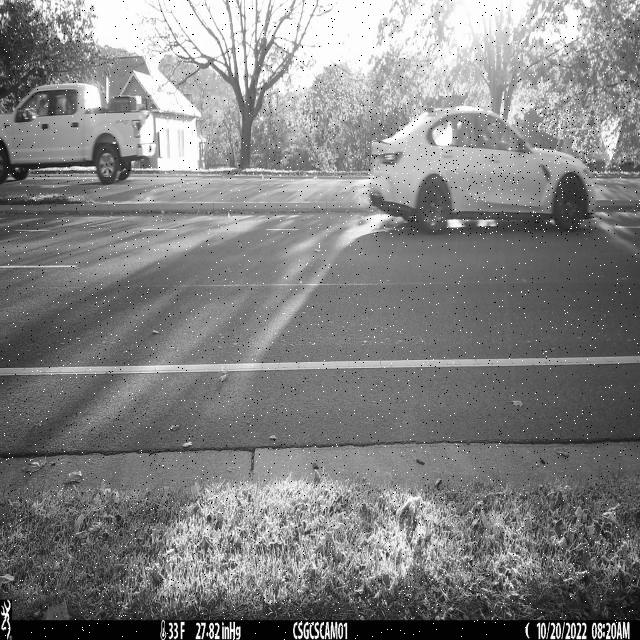Sedan: (368, 106, 596, 235)
